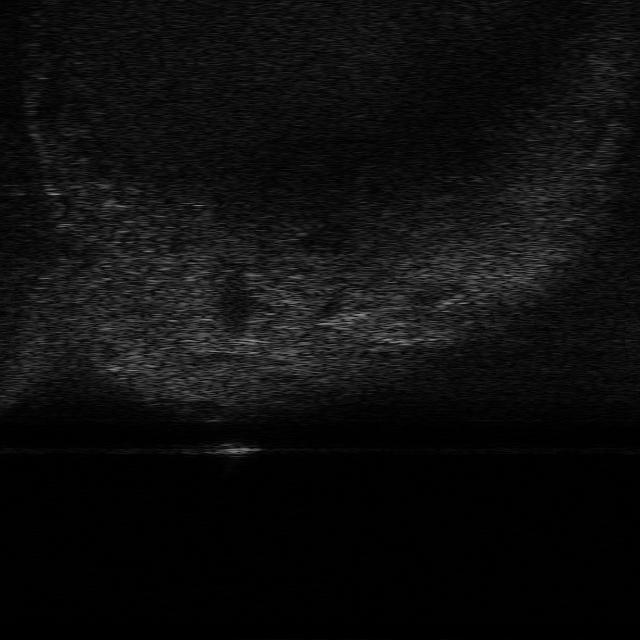cube: (205, 436, 257, 460)
